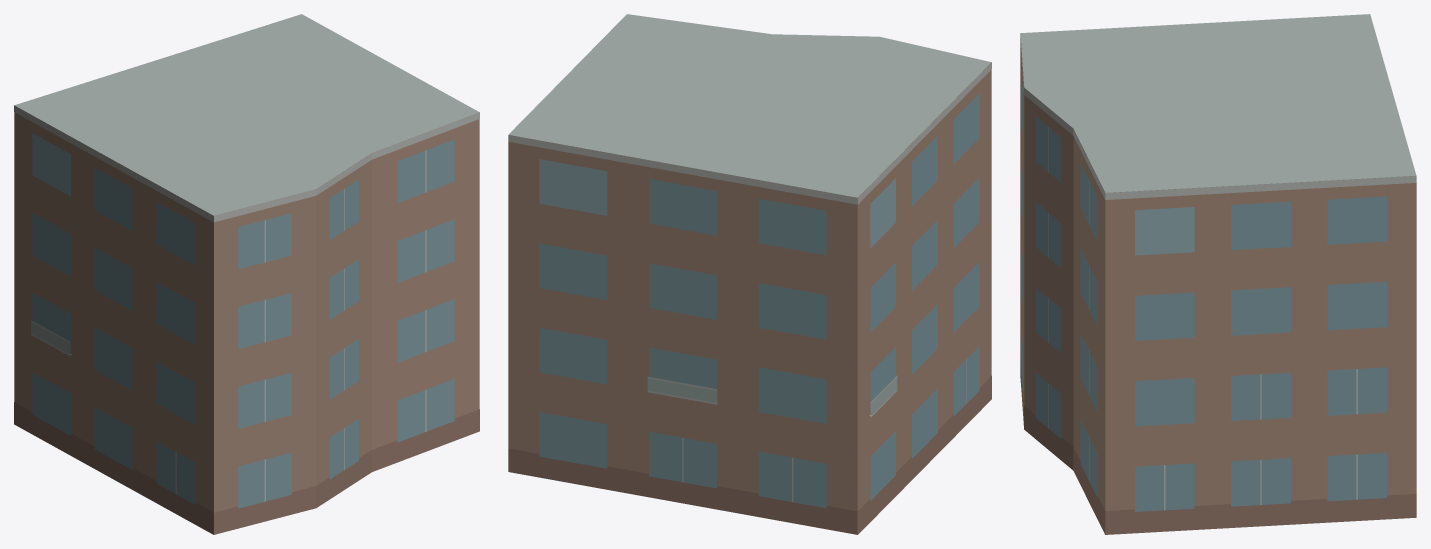
The model's file is survey-upis-32619651.glb.
The picture shows the model from 3 angles, left to right: view 1: azimuth 30°, elevation 25°; view 2: azimuth 150°, elevation 25°; view 3: azimuth 270°, elevation 25°; orthographic projection. The views are drawn at different scales.
Visible parts, largest first — view 1: survey-upis-32619651.tmp; view 2: survey-upis-32619651.tmp; view 3: survey-upis-32619651.tmp.
Part boxes in pixels (bbox=[...]): survey-upis-32619651.tmp: bbox=[14, 14, 479, 534]; survey-upis-32619651.tmp: bbox=[508, 14, 991, 534]; survey-upis-32619651.tmp: bbox=[1020, 14, 1416, 534].
Size of the model in its own units: 13.19 by 11.75 by 12.35.
